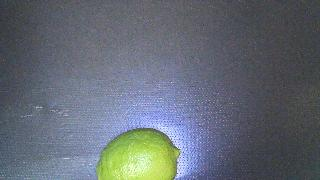EXPORTACION: (97, 128, 180, 180)
